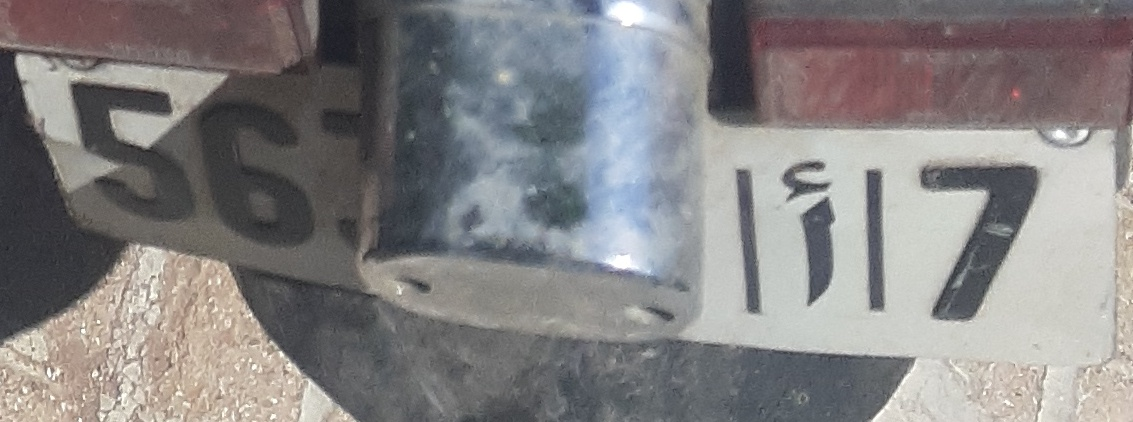5: (50, 73, 204, 239)
6: (191, 100, 316, 255)
7: (909, 152, 1071, 339)
a: (769, 142, 861, 324)
